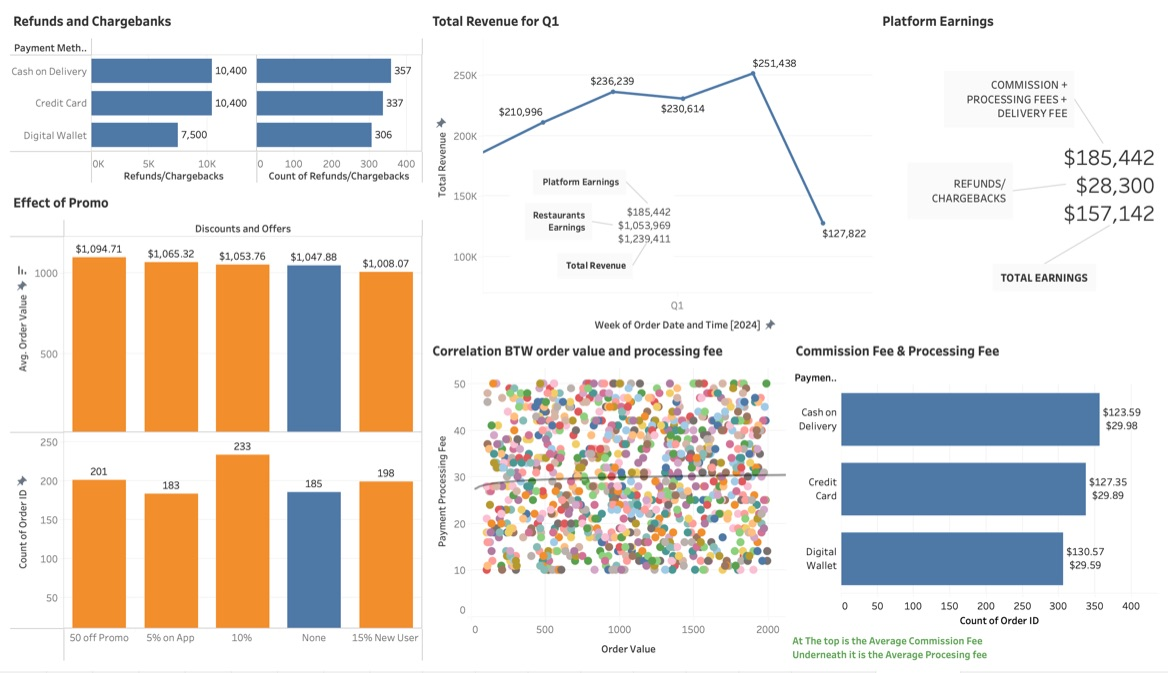

Layout of this report page (visuals, bound fields, positions):
{"tool":"tableau","page":{"name":"Dashboard 2","canvas":[1000,1000],"units":"permille","ordinal":1},"visuals":[{"type":"worksheet","title":"Sheet 10","mark":"Automatic","rows":["Order Value","Order ID"],"cols":["Discounts and Offers"],"box":[5.6,9.6,359.2,980.7]},{"type":"worksheet","title":"Sheet 13","mark":"Automatic","rows":["Calculation_87186884269301760"],"cols":["Order Date and Time"],"box":[364.8,9.6,385.6,490.4]},{"type":"worksheet","title":"Sheet 15","mark":"Automatic","box":[750.3,9.6,244.1,490.4]},{"type":"worksheet","title":"Sheet 16","mark":"Automatic","box":[437.1,242.4,140.5,190.6]},{"type":"worksheet","title":"Sheet 12","mark":"Circle","rows":["Payment Processing Fee"],"cols":["Order Value"],"box":[364.8,500,311,490.4]},{"type":"worksheet","title":"Sheet 14","mark":"Automatic","rows":["Payment Method"],"cols":["Order ID"],"box":[675.7,500,318.7,490.4]}]}

Visuals, with their boxes on the dashboard's canvas, which has no fixed pixel size, in thousandths of its width and height (x1, y1, x2, y2). These are canvas units, not pixel positions in the 1168x673 screenshot, which may show the page scaled, cropped or inside an application window:
"Sheet 10" worksheet: 6,10,365,990
"Sheet 13" worksheet: 365,10,750,500
"Sheet 15" worksheet: 750,10,994,500
"Sheet 16" worksheet: 437,242,578,433
"Sheet 12" worksheet (Circle marks): 365,500,676,990
"Sheet 14" worksheet: 676,500,994,990
